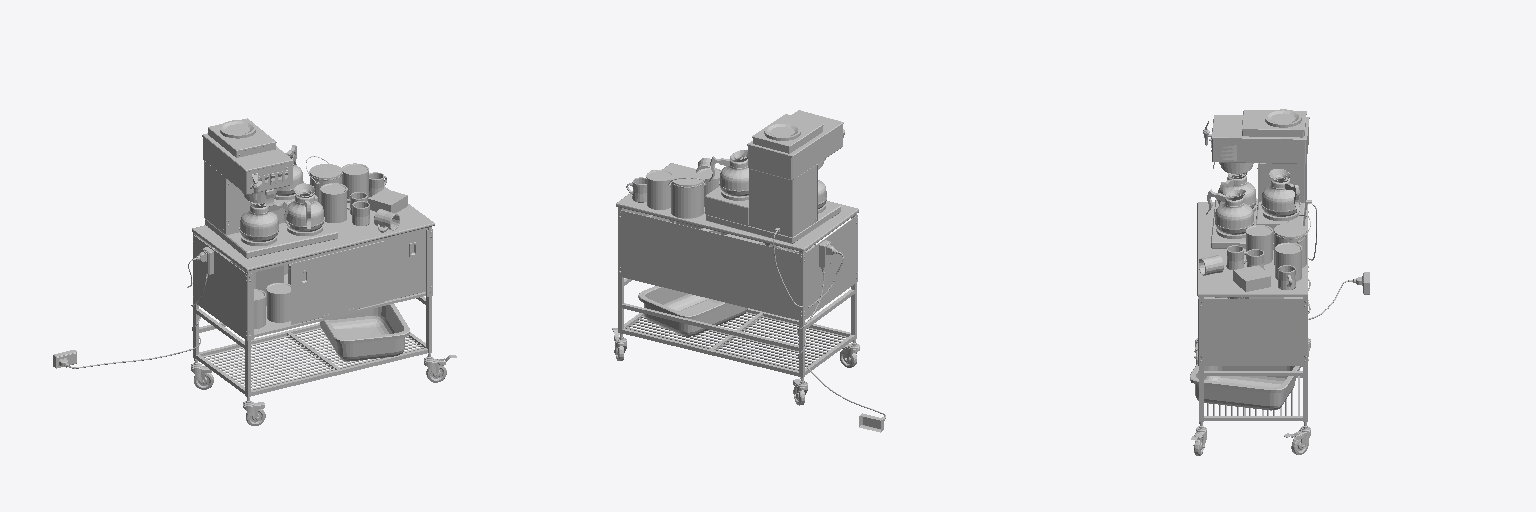
The model's file is coffeeCart.obj.
3 views of the same model, side by side, from view 1: azimuth 30°, elevation 25°; view 2: azimuth 150°, elevation 25°; view 3: azimuth 270°, elevation 25° (orthographic).
Parts seen in each view (by area): view 1: CoffeeCart_01_cart_Bottom_Cart, CoffeeCart_01_props_Top_Cart, CoffeeCart_01_mugs_Mugs; view 2: CoffeeCart_01_cart_Bottom_Cart, CoffeeCart_01_props_Top_Cart; view 3: CoffeeCart_01_props_Top_Cart, CoffeeCart_01_cart_Bottom_Cart, CoffeeCart_01_mugs_Mugs.
Boxes of the visible parts, box(x1,y1,x2,y2) form: CoffeeCart_01_cart_Bottom_Cart: box(191, 186, 456, 425); CoffeeCart_01_props_Top_Cart: box(53, 118, 409, 368); CoffeeCart_01_mugs_Mugs: box(347, 172, 399, 232); CoffeeCart_01_cart_Bottom_Cart: box(612, 163, 859, 405); CoffeeCart_01_props_Top_Cart: box(638, 110, 885, 432); CoffeeCart_01_props_Top_Cart: box(1190, 109, 1369, 410); CoffeeCart_01_cart_Bottom_Cart: box(1191, 202, 1310, 455); CoffeeCart_01_mugs_Mugs: box(1199, 245, 1295, 289).
Size of the model in its own units: 11.68 by 9.26 by 5.79.